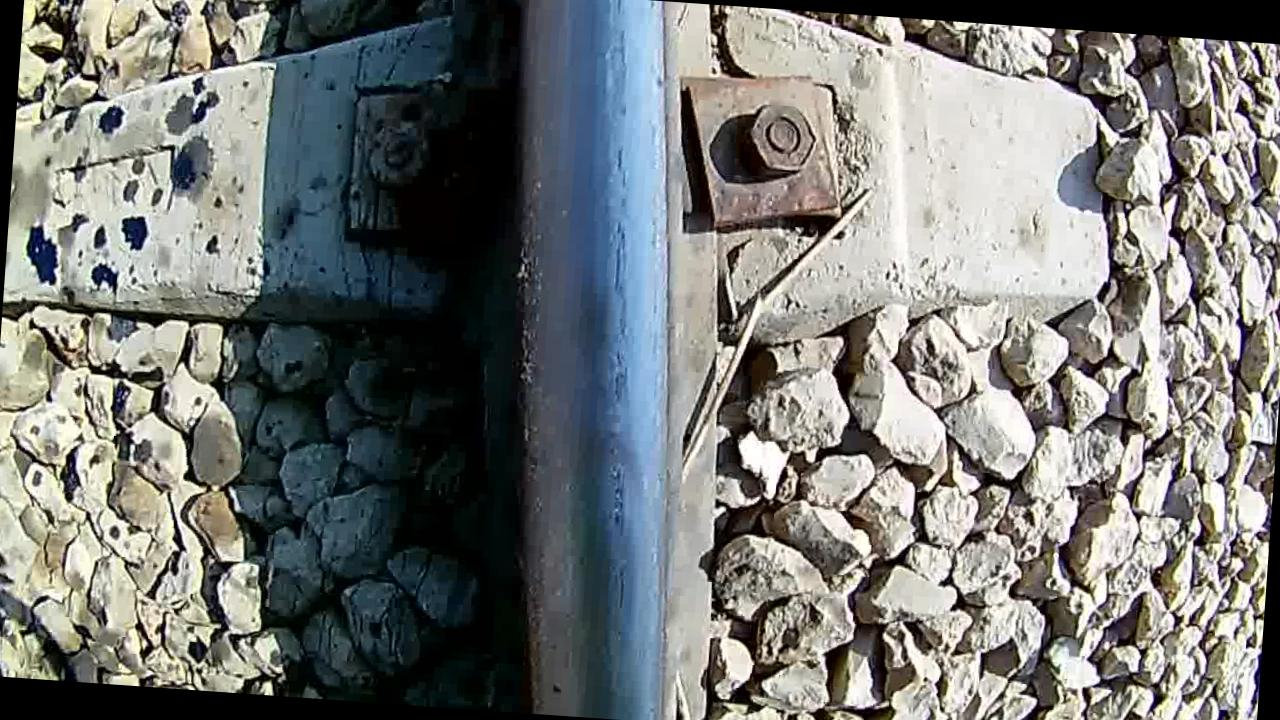crack: (484, 0, 710, 717)
